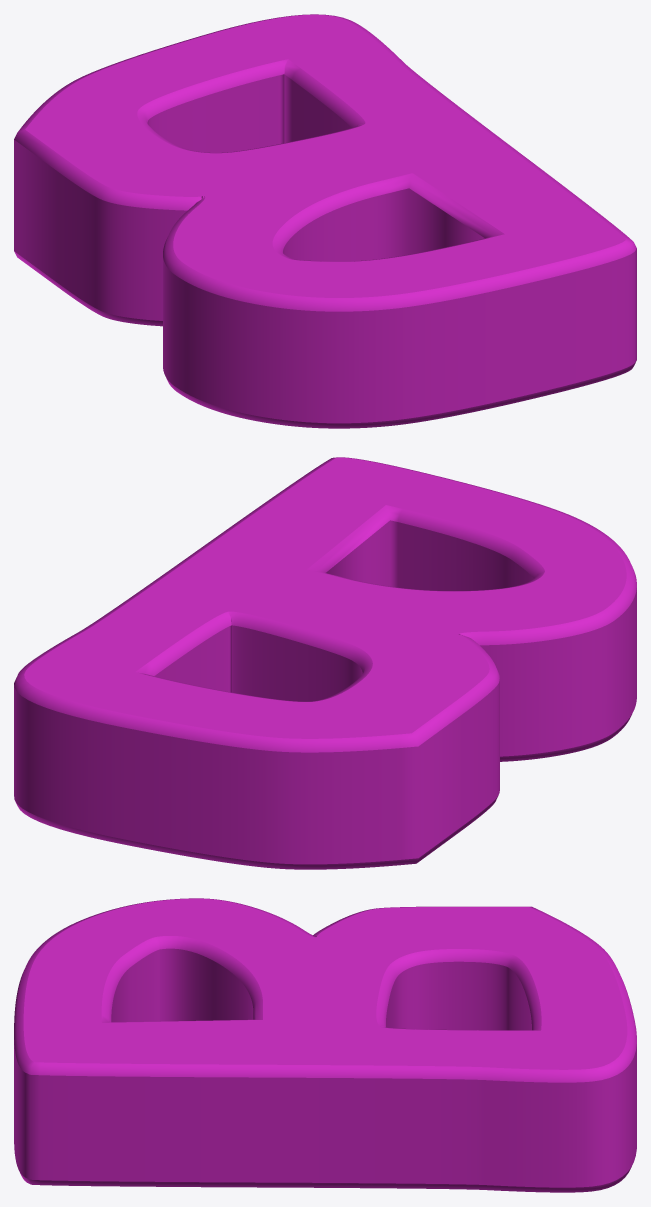
Rendered from Bubble_LetterB.fbx.
The picture shows the model from 3 angles, top to bottom: view 1: azimuth 30°, elevation 25°; view 2: azimuth 150°, elevation 25°; view 3: azimuth 270°, elevation 25°; orthographic projection. The views are drawn at different scales.
Visible parts, largest first — view 1: BubbleLetter_B; view 2: BubbleLetter_B; view 3: BubbleLetter_B.
Part boxes in pixels (<box>): BubbleLetter_B: <box>14,14,636,428</box>; BubbleLetter_B: <box>14,457,636,869</box>; BubbleLetter_B: <box>14,898,636,1192</box>.
Size of the model in its own units: 0.4396 by 0.14 by 0.6455.
